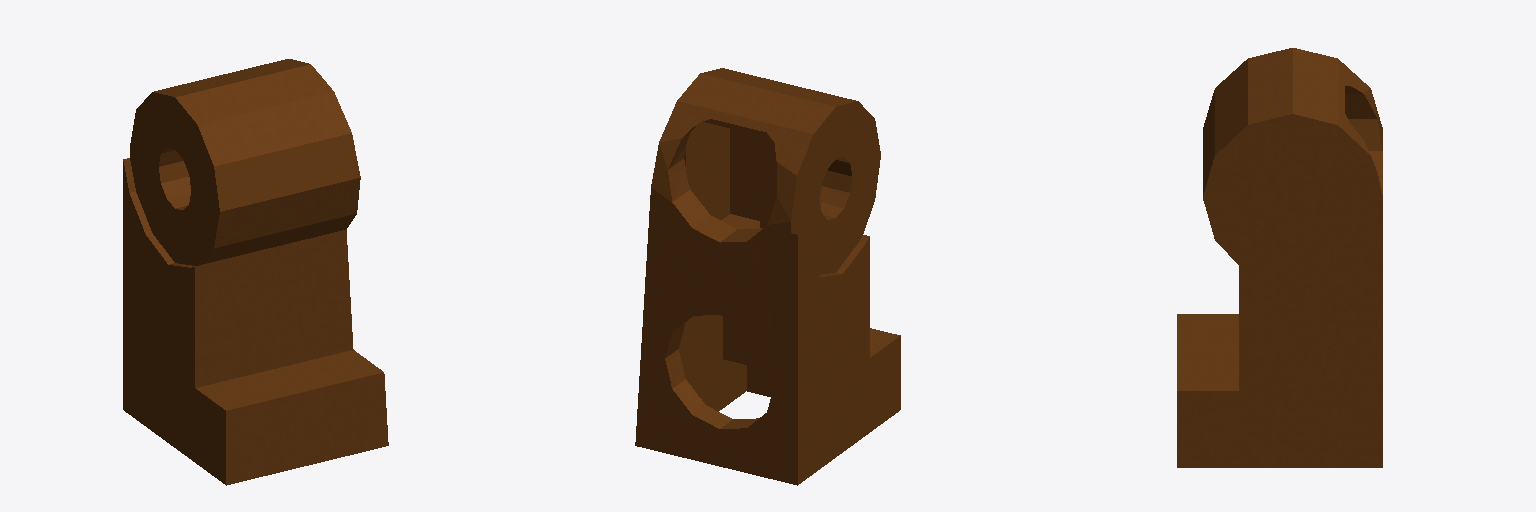
The picture shows the model from 3 angles: view 1: azimuth 30°, elevation 25°; view 2: azimuth 150°, elevation 25°; view 3: azimuth 270°, elevation 25°; orthographic projection.
Parts seen in each view (by area): view 1: piernaIzq; view 2: piernaIzq; view 3: piernaIzq.
Part boxes in pixels (x1,y1,x2,y2): piernaIzq: (123,59,388,485); piernaIzq: (635,68,900,485); piernaIzq: (1177,48,1382,467).
Bounding box in the file's own units: 6.71 × 13.58 × 7.37.
1 materials, 1 textured.